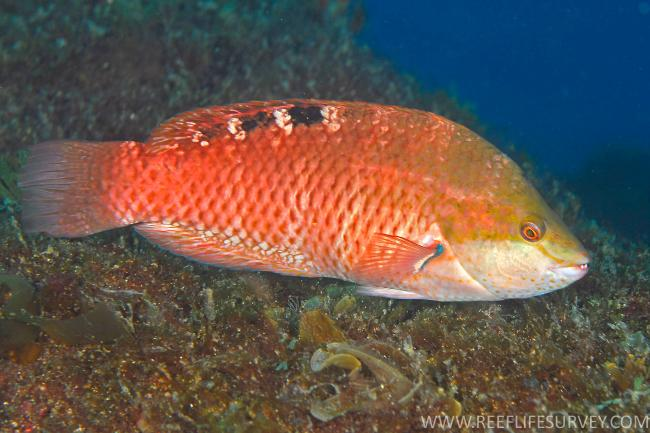fish: (19, 97, 595, 303)
